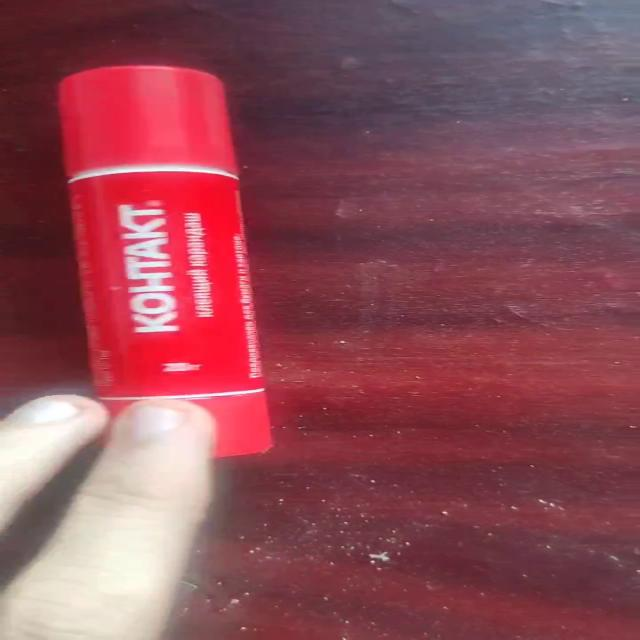glue: (55, 64, 275, 458)
